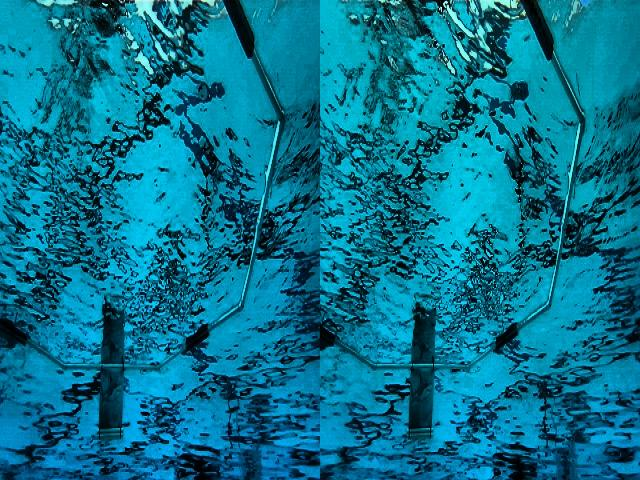octagon_top: (0, 0, 286, 440), (320, 0, 587, 438)
shark: (99, 366, 124, 430), (408, 369, 434, 429)
